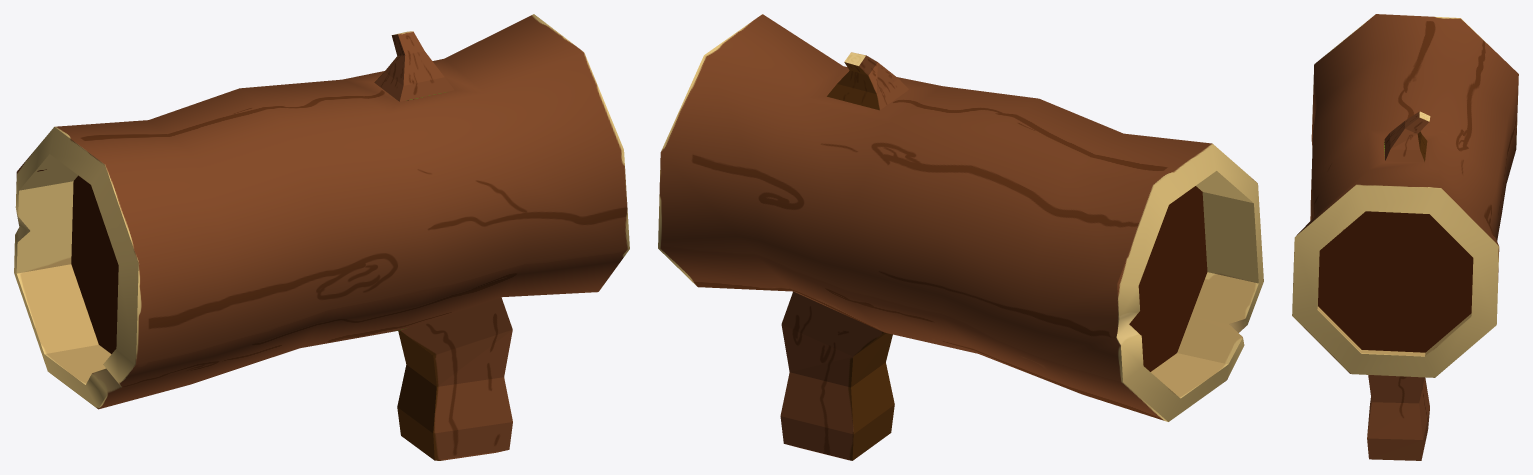
Rendered from Gunn.fbx.
3 renders of one model, left to right at view 1: azimuth 30°, elevation 25°; view 2: azimuth 150°, elevation 25°; view 3: azimuth 270°, elevation 25°, orthographic. The views are drawn at different scales.
Visible parts, largest first — view 1: Banana; view 2: Banana; view 3: Banana.
Part boxes in pixels (<box>): Banana: <box>14,14,629,460</box>; Banana: <box>658,14,1263,460</box>; Banana: <box>1292,14,1518,460</box>.
Bounding box in the file's own units: 48.54 × 37.81 × 24.14.
